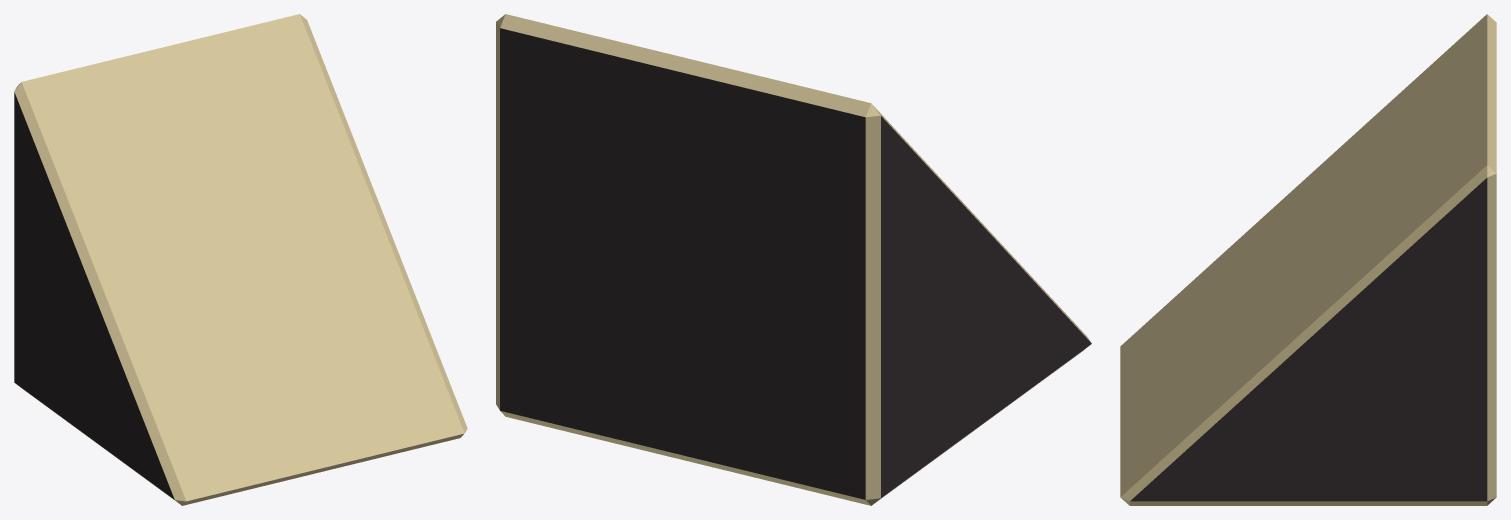
File: pokatNew.fbx
3 views of the same model, side by side, from view 1: azimuth 30°, elevation 25°; view 2: azimuth 150°, elevation 25°; view 3: azimuth 270°, elevation 25° (orthographic). The views are drawn at different scales.
Parts seen in each view (by area): view 1: Cube; view 2: Cube; view 3: Cube.
Boxes of the visible parts, x1,y1,x2,y2 form: Cube: (14, 14, 467, 505); Cube: (496, 14, 1091, 505); Cube: (1120, 14, 1496, 505).
Size of the model in its own units: 1 by 1 by 1.
